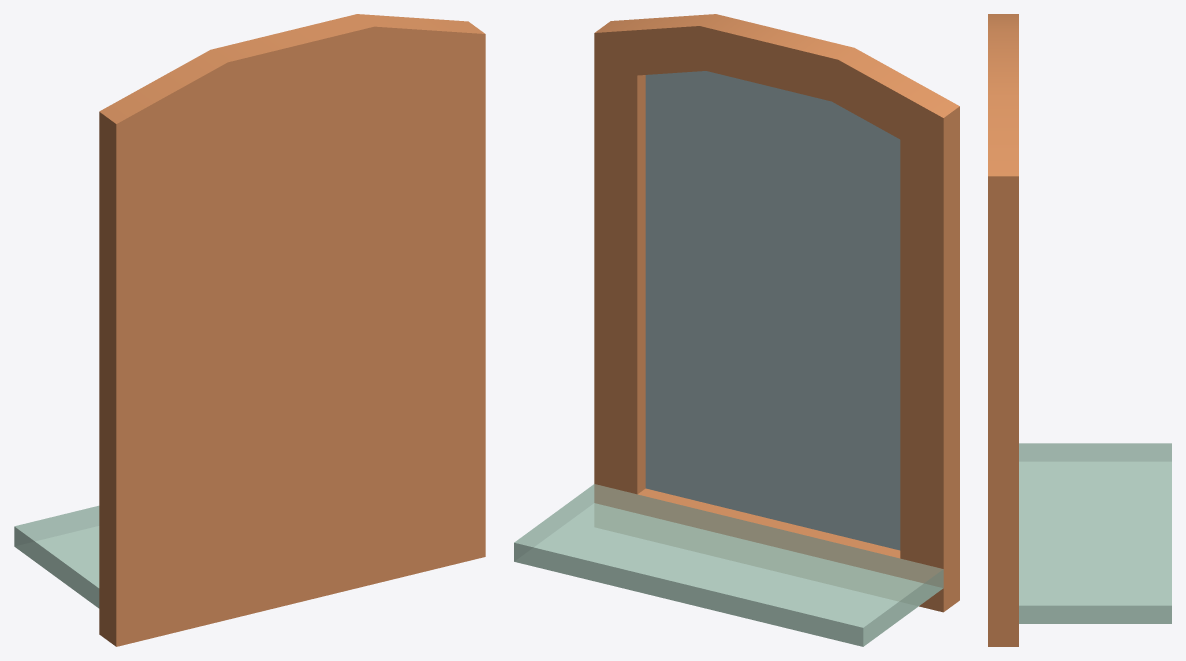
Rendered from bathroomMirror.fbx.
3 views of the same model, side by side, from view 1: azimuth 30°, elevation 25°; view 2: azimuth 150°, elevation 25°; view 3: azimuth 270°, elevation 25° (orthographic). The views are drawn at different scales.
Parts seen in each view (by area): view 1: bathroomMirror; view 2: bathroomMirror; view 3: bathroomMirror.
Part boxes in pixels (box(x1,y1,x2,y2)): bathroomMirror: box(14, 14, 485, 646); bathroomMirror: box(514, 14, 959, 646); bathroomMirror: box(988, 14, 1171, 646).
Size of the model in its own units: 3.01 by 4.35 by 1.44.
